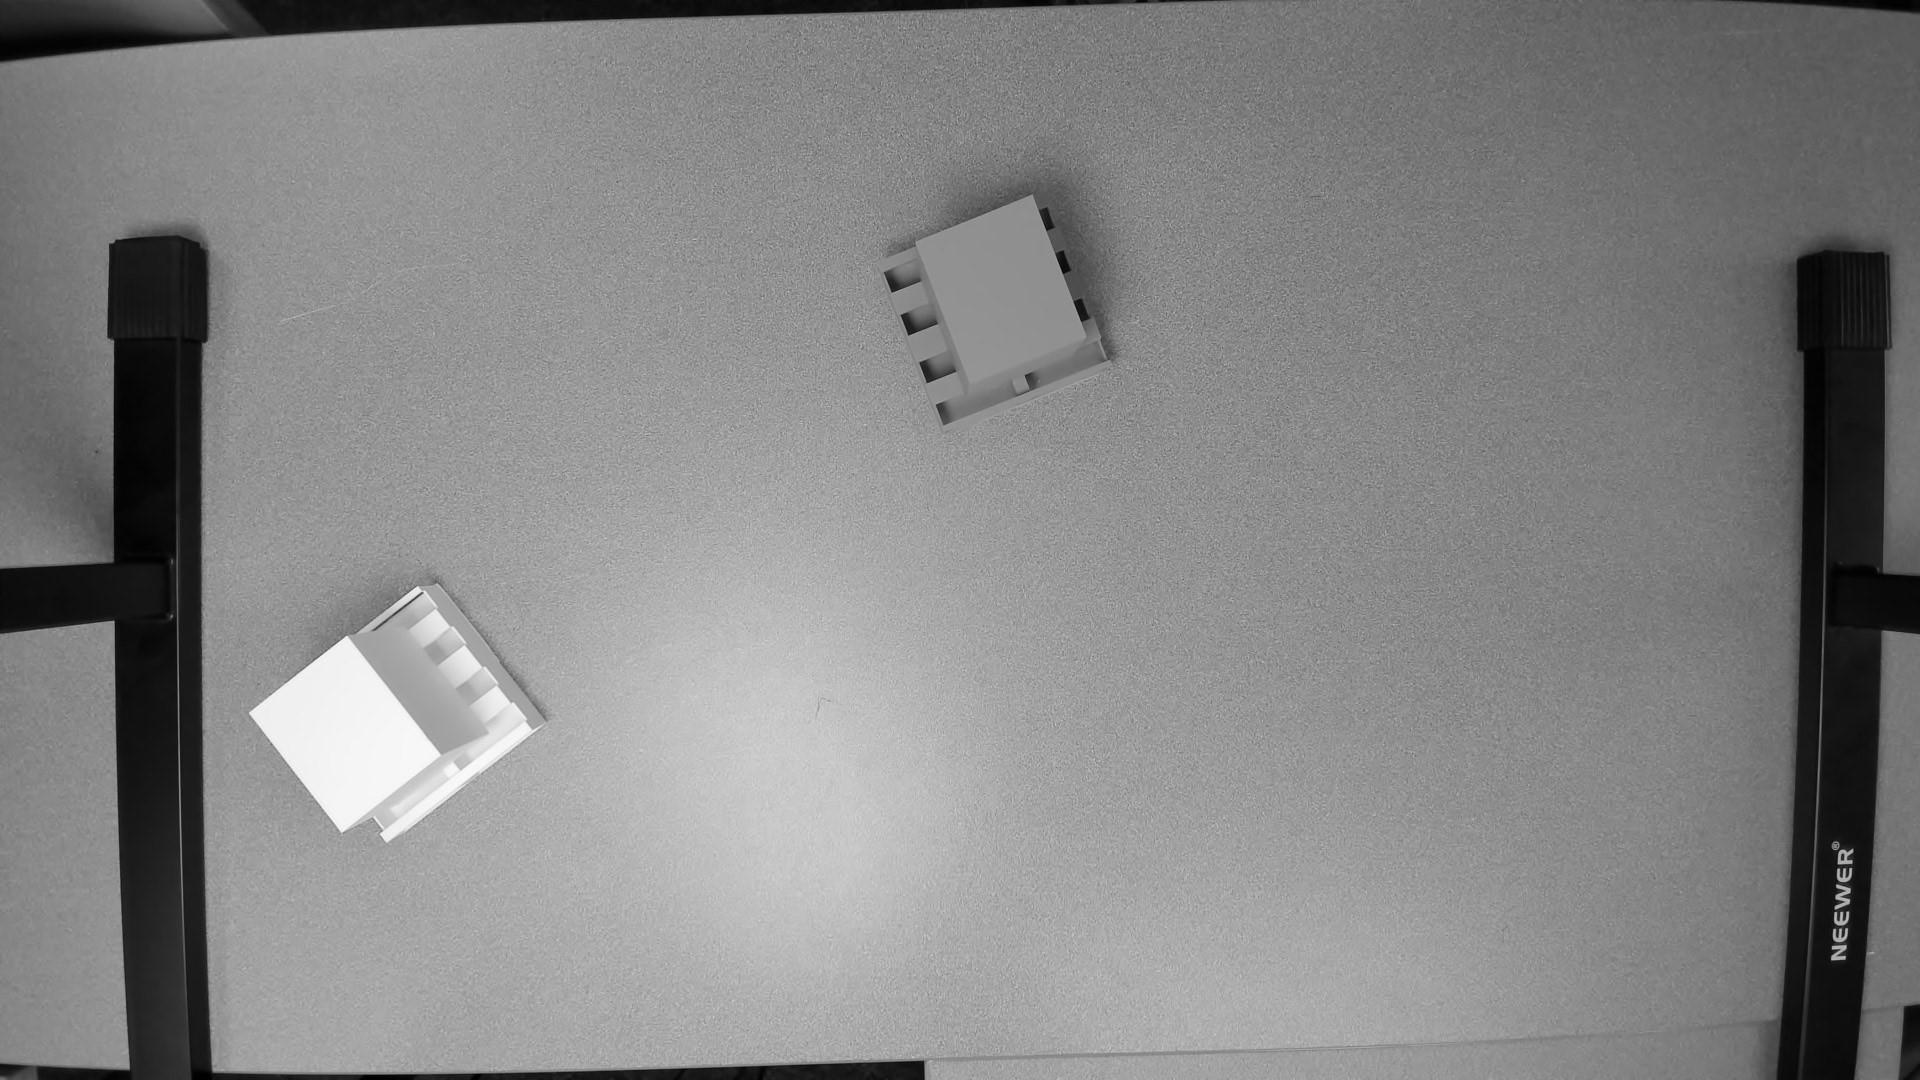grey pallet: (862, 185, 1131, 467)
white pallet: (243, 576, 564, 851)
